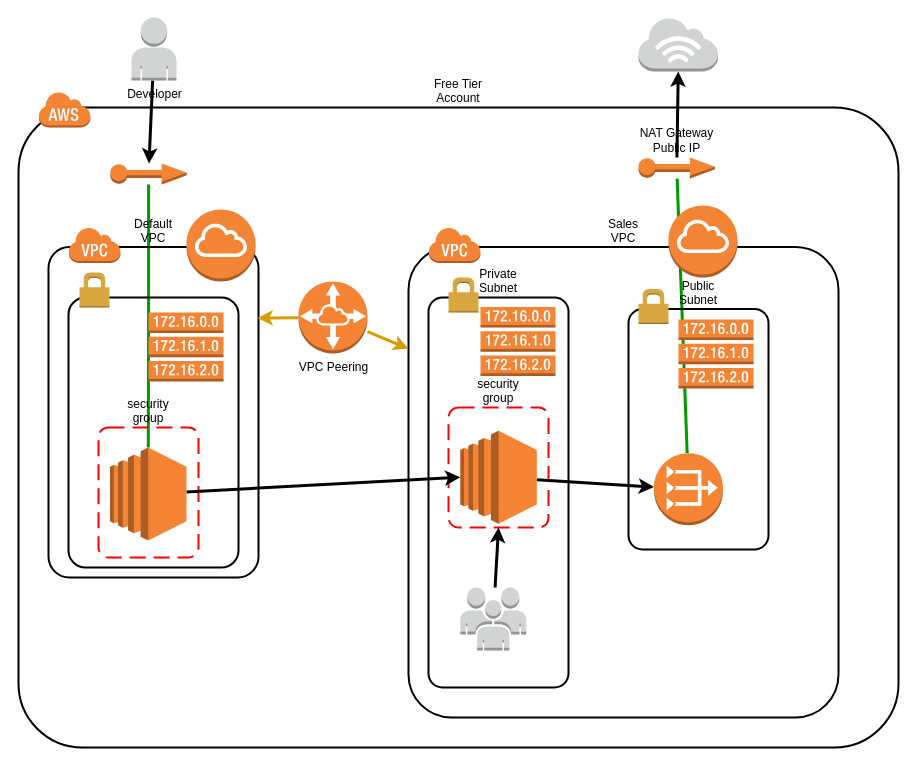
This 916x766 diagram has some shape labels left out. The shapes that lost their labels are listed below. From the top down, each one's centre as x and y in pixels, then its label:
(148,173): Jumphost Public IP
(147,493): Jumphost
(498,477): App Instance
(688,488): NAT Gateway
(492,618): Users
